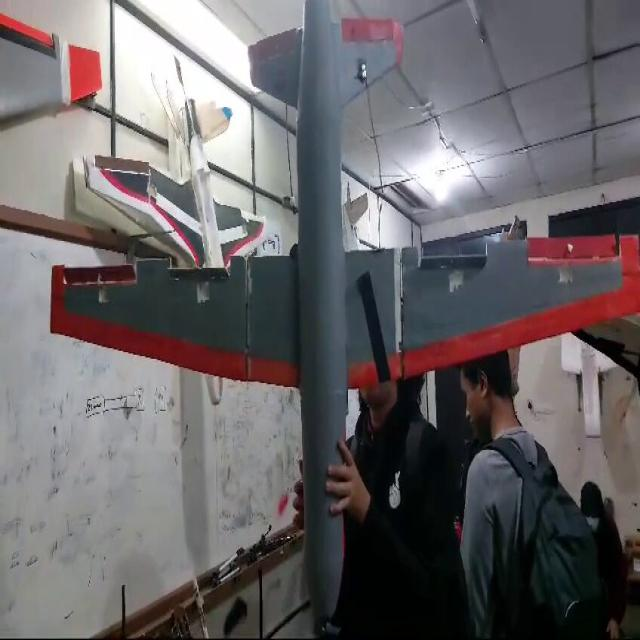plane: (1, 0, 638, 635)
